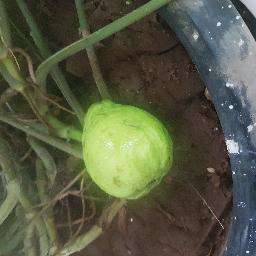Good_guava: (80, 95, 175, 205)
